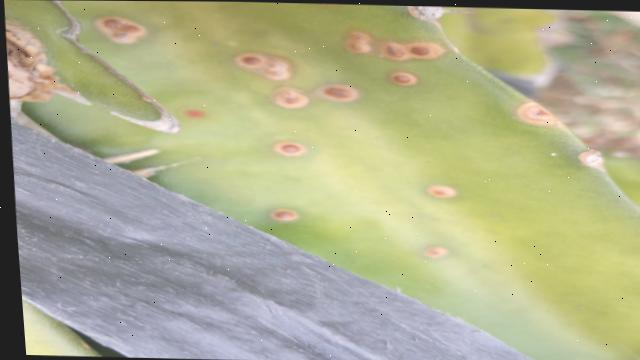stemcanker: (225, 20, 608, 257), (90, 2, 152, 43), (174, 95, 215, 137)
